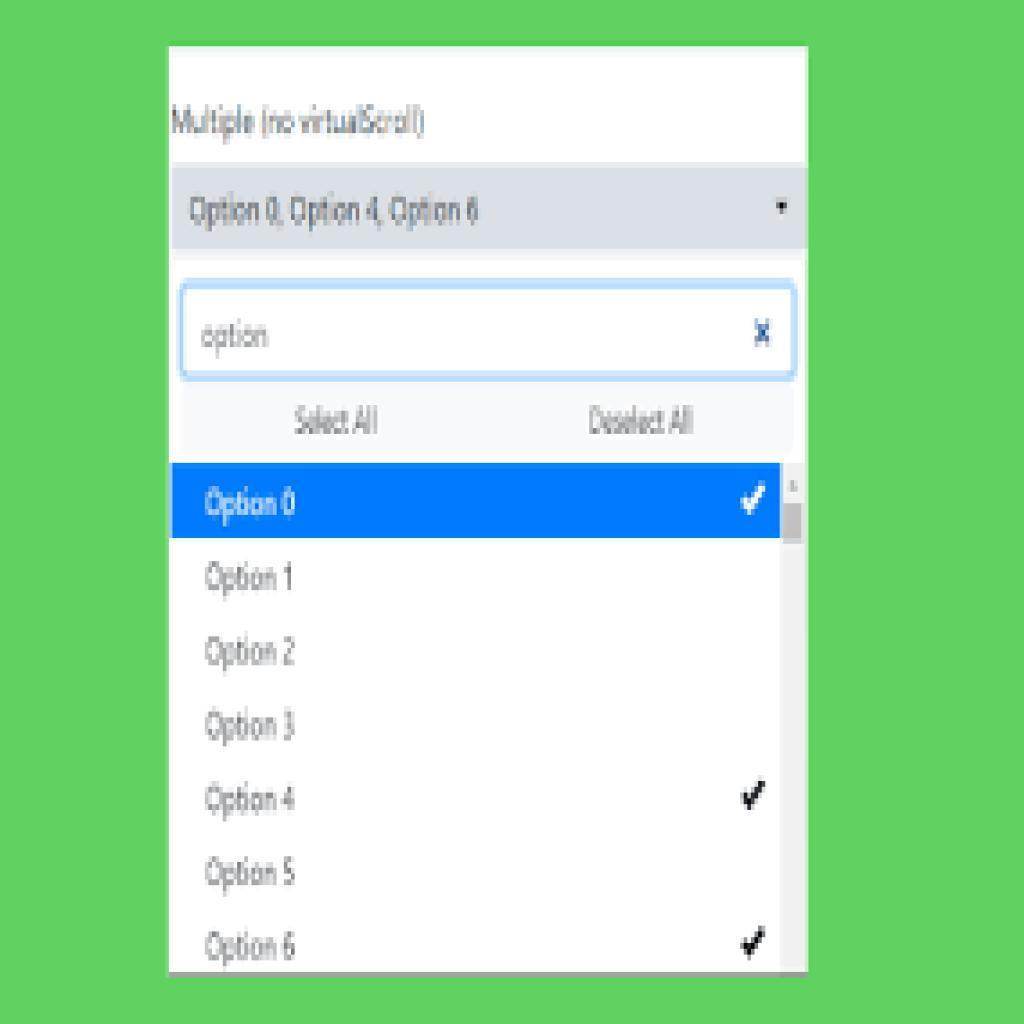dropdown: (167, 163, 810, 257)
icon: (172, 462, 781, 538)
input: (181, 282, 797, 377)
label: (584, 401, 704, 443), (292, 398, 388, 443)
